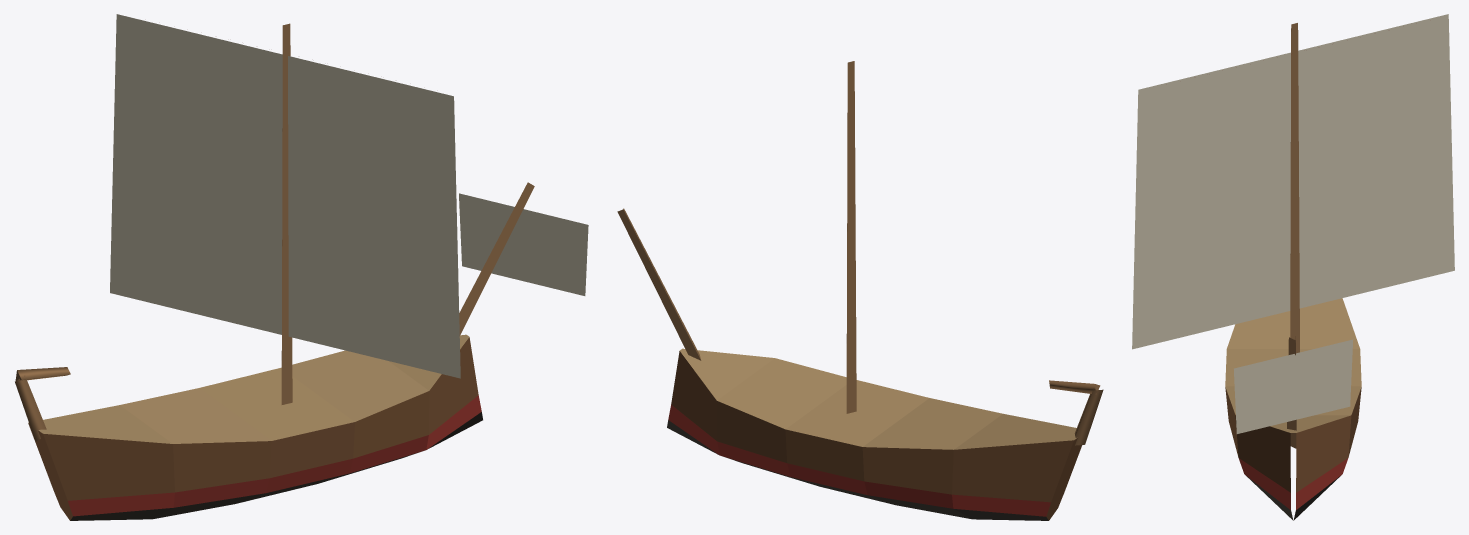
Rendered from hull_usd_corbita_medium_lod.glb.
3 views of the same model, side by side, from view 1: azimuth 30°, elevation 25°; view 2: azimuth 150°, elevation 25°; view 3: azimuth 270°, elevation 25° (orthographic). The views are drawn at different scales.
Visible parts, largest first — view 1: lod; view 2: lod; view 3: lod.
Part boxes in pixels (x1,y1,x2,y2): lod: (15,14,588,520); lod: (617,61,1103,520); lod: (1132,14,1454,520).
Size of the model in its own units: 16.33 by 13.45 by 9.13.
